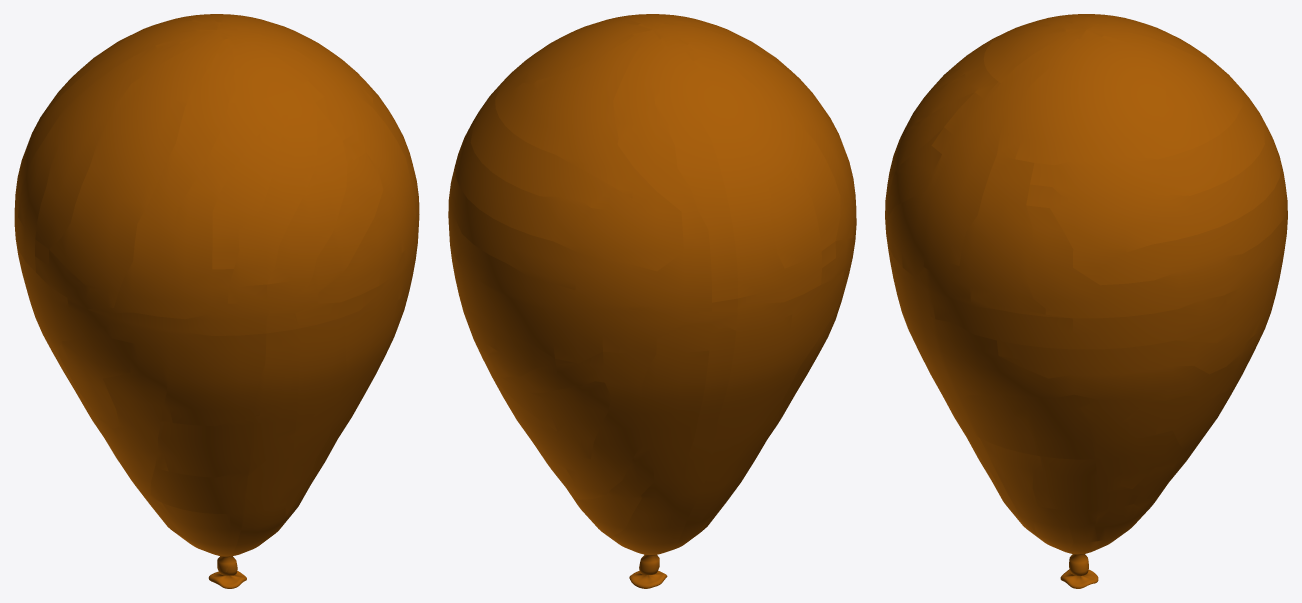
Rendered from balloon.gltf.
3 views of the same model, side by side, from view 1: azimuth 30°, elevation 25°; view 2: azimuth 150°, elevation 25°; view 3: azimuth 270°, elevation 25° (orthographic).
Visible parts, largest first — view 1: Sphere; view 2: Sphere; view 3: Sphere.
Part boxes in pixels (bbox=[...]): Sphere: bbox=[14, 14, 419, 588]; Sphere: bbox=[448, 14, 856, 588]; Sphere: bbox=[885, 14, 1287, 588].
Bounding box in the file's own units: 1.91 × 2.87 × 1.91.
